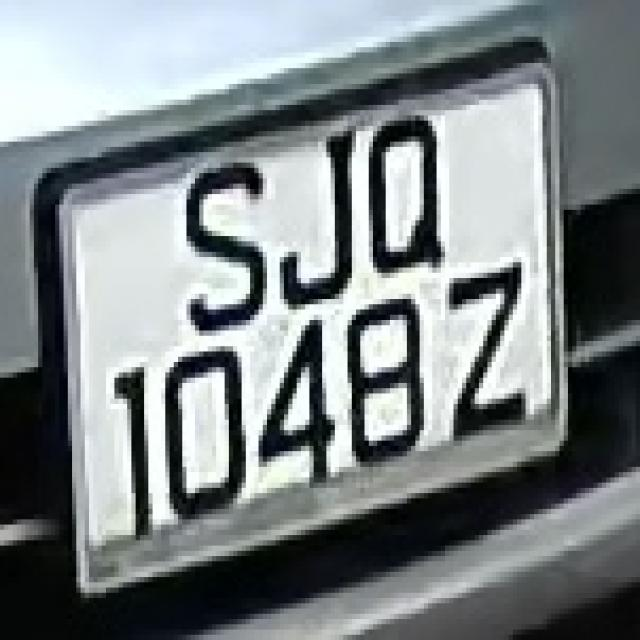0: (153, 336, 254, 535)
1: (102, 336, 161, 561)
4: (242, 315, 339, 509)
8: (331, 278, 436, 493)
J: (276, 100, 364, 325)
Q: (356, 94, 458, 294)
S: (182, 142, 280, 330)
Z: (441, 252, 538, 440)
